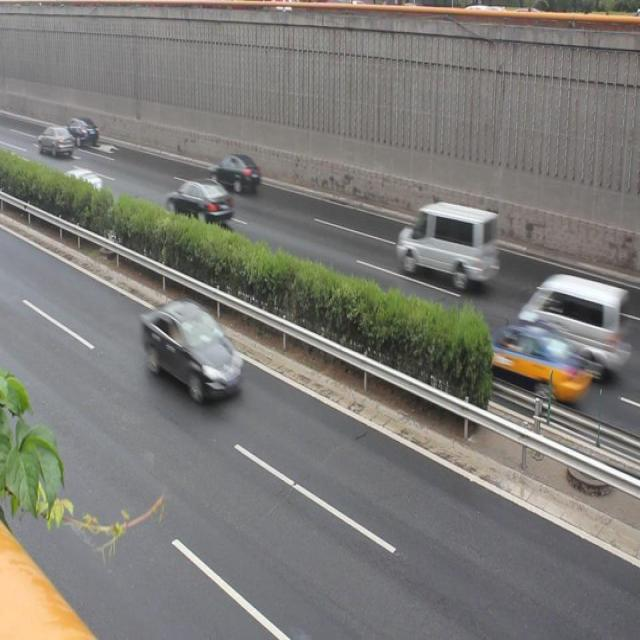car: (138, 299, 242, 403), (474, 319, 585, 409), (166, 174, 232, 229), (207, 154, 261, 198), (63, 167, 104, 206), (66, 112, 100, 146), (40, 125, 75, 156)
truck: (396, 199, 501, 285), (522, 271, 612, 361)
